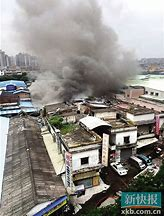smoke: (19, 1, 138, 95)
